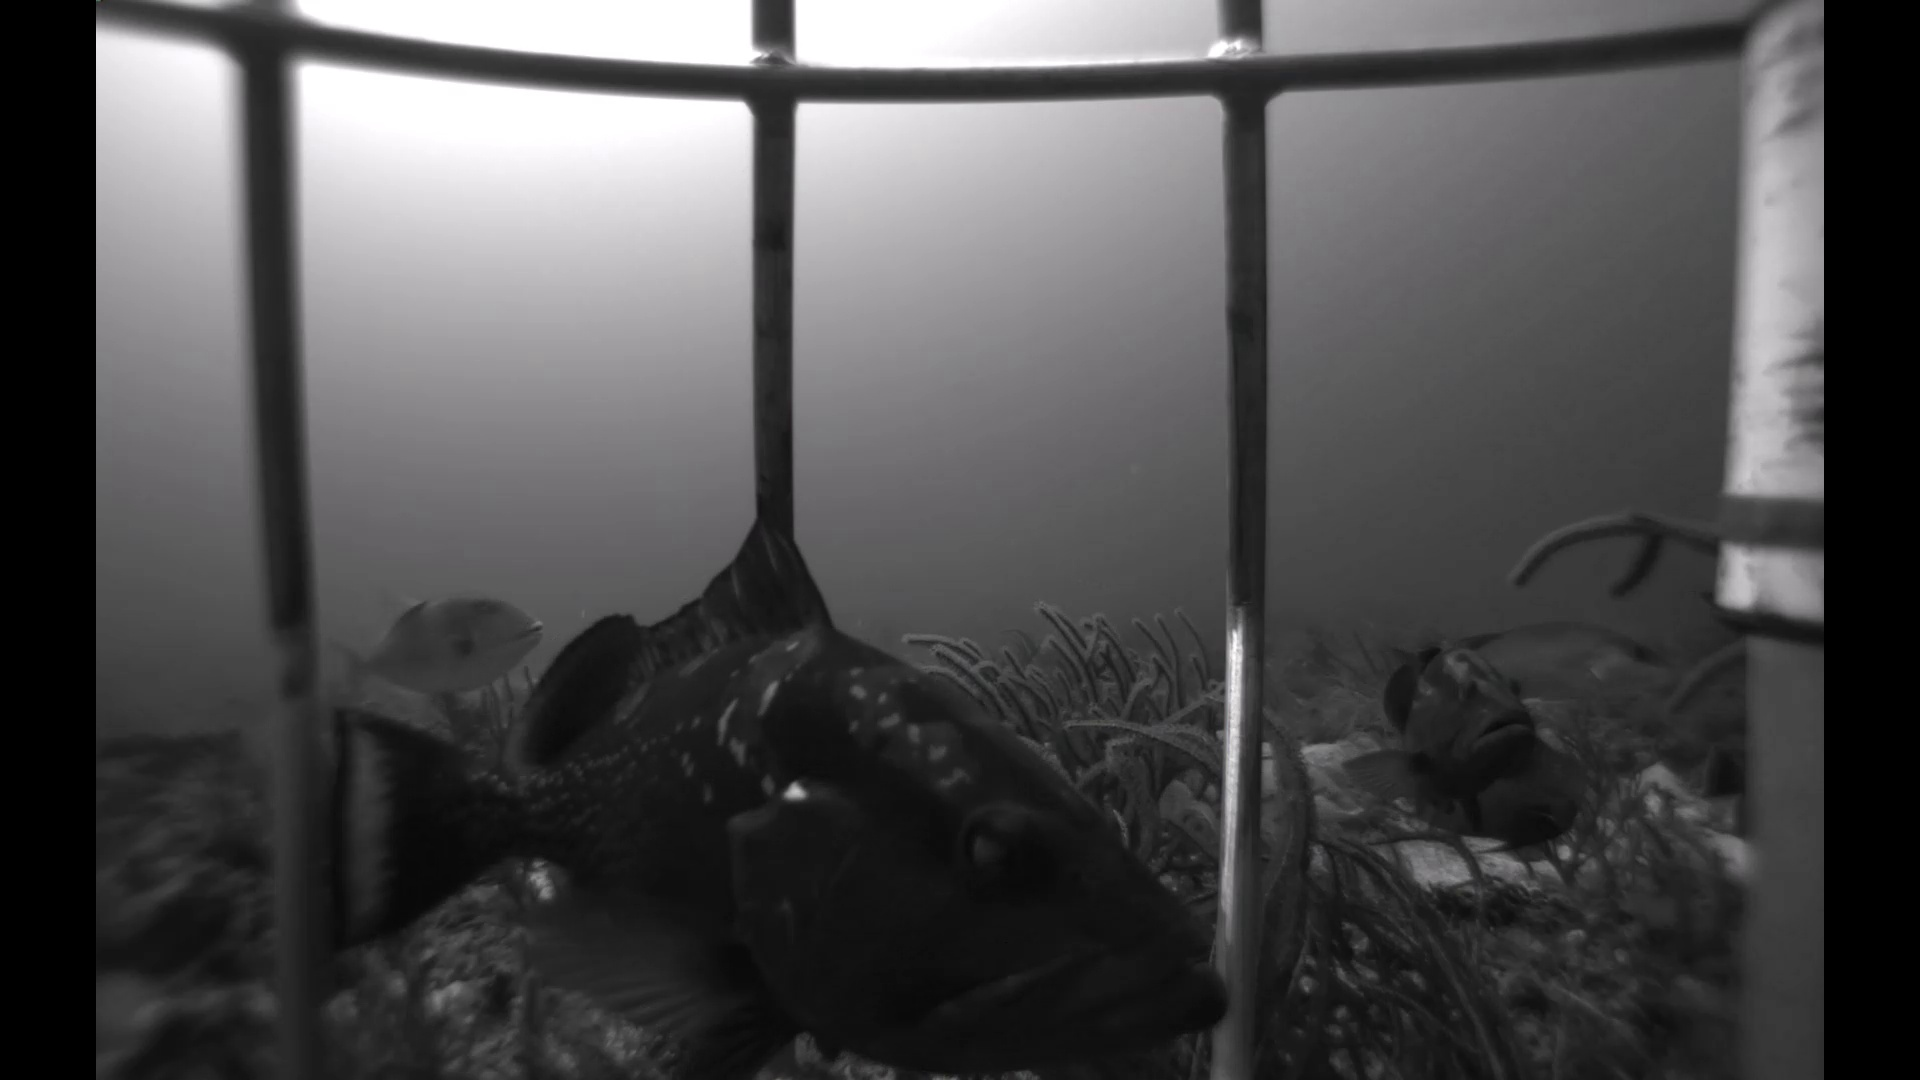BALISTESCAPRISCUS-189030502: (324, 566, 554, 709)
EPINEPHELUSMORIO-170021211: (309, 504, 1218, 1071), (1328, 636, 1545, 827), (1691, 579, 1724, 617)
LACHNOLAIMUSMAXIMUS-170281801: (1261, 748, 1378, 840)
LUTJANUSGRISEUS-170151109: (1379, 622, 1695, 709)
POMACANTHUSARCUATUS-170290201: (1385, 760, 1592, 858), (1675, 713, 1745, 844)
